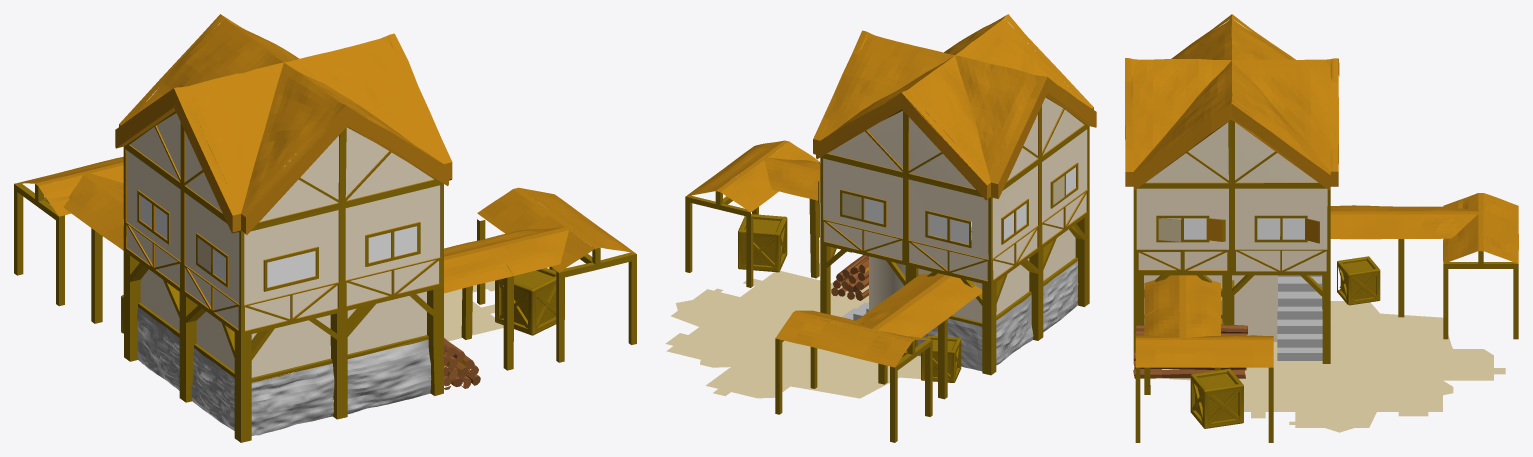
Rendered from hall.gltf.
3 renders of one model, left to right at view 1: azimuth 30°, elevation 25°; view 2: azimuth 150°, elevation 25°; view 3: azimuth 270°, elevation 25°, orthographic. The views are drawn at different scales.
Visible parts, largest first — view 1: TownHall; view 2: TownHall; view 3: TownHall.
Part boxes in pixels (bbox=[...]): TownHall: bbox=[14, 14, 636, 442]; TownHall: bbox=[665, 14, 1096, 442]; TownHall: bbox=[1125, 14, 1518, 442].
Bounding box in the file's own units: 9 × 6.7 × 9.
1 material, 1 textured.
